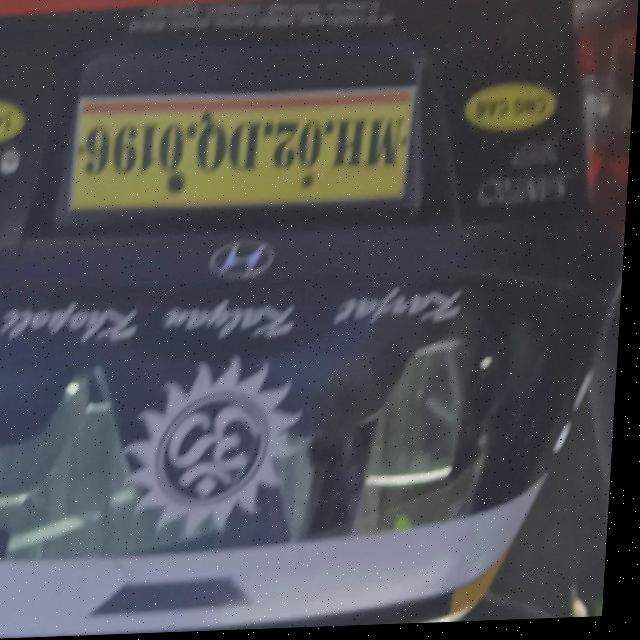plate: (67, 84, 422, 219)
